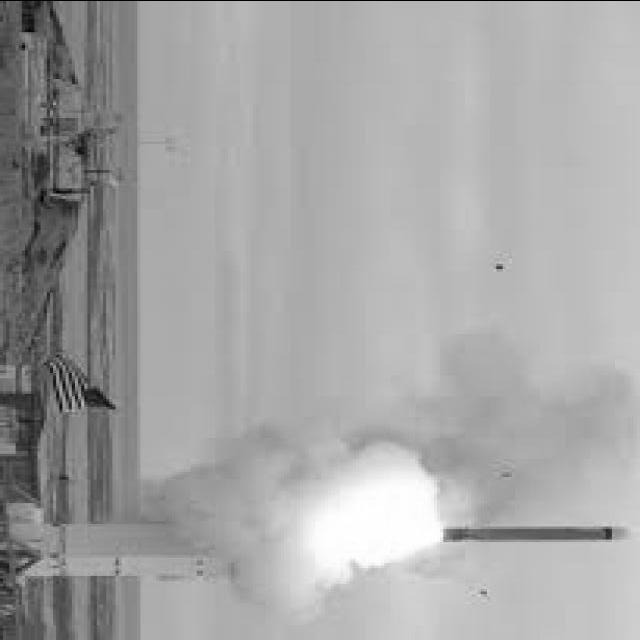Missile: (433, 517, 636, 553)
